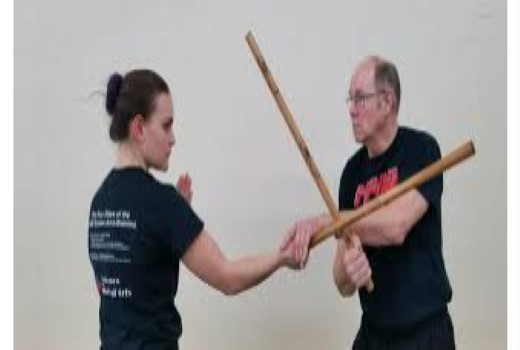baston_e: (241, 48, 345, 210), (314, 140, 455, 251)
baston_v: (234, 21, 266, 50), (460, 136, 482, 162), (358, 276, 381, 297)
